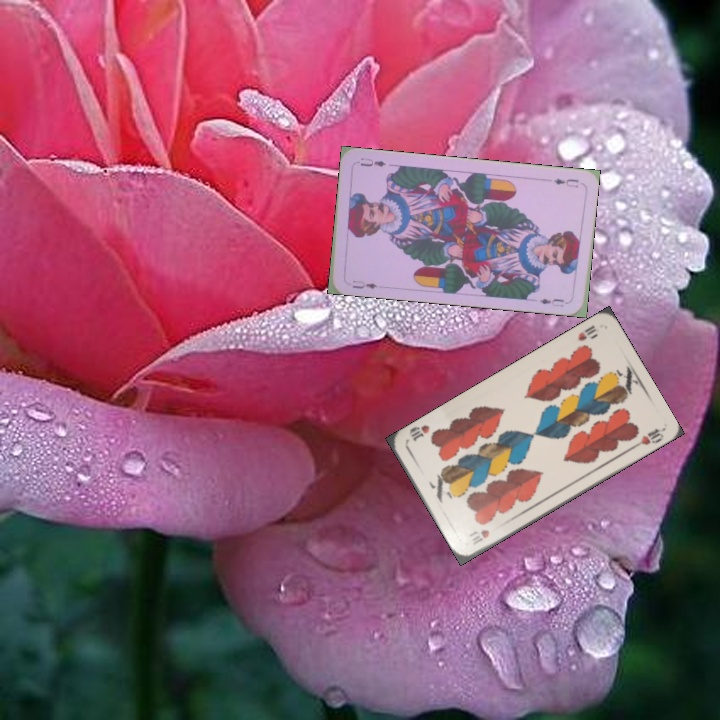EU: (550, 174, 581, 190), (348, 276, 380, 291)
H10: (574, 321, 602, 343), (467, 525, 492, 548)
